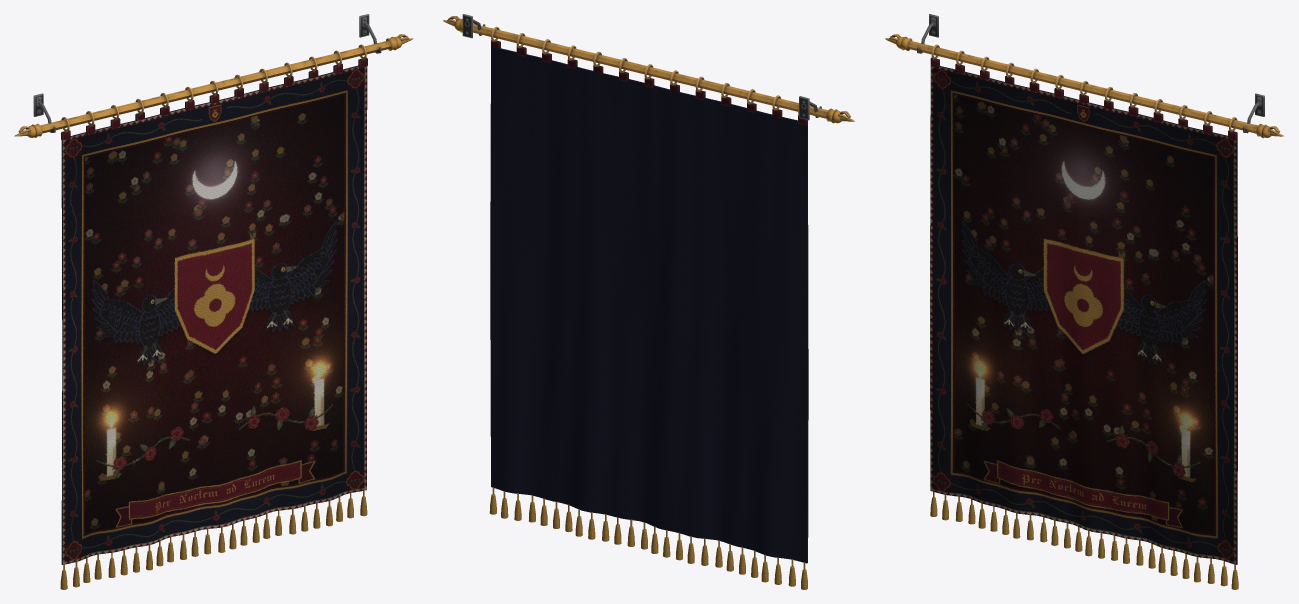
File: TapestryCrest.fbx
The picture shows the model from 3 angles, left to right: view 1: azimuth 30°, elevation 25°; view 2: azimuth 150°, elevation 25°; view 3: azimuth 330°, elevation 25°; orthographic projection. The views are drawn at different scales.
Visible parts, largest first — view 1: TapestryCrest_Weave, TapestryCrest_Main; view 2: TapestryCrest_Weave, TapestryCrest_Main; view 3: TapestryCrest_Weave, TapestryCrest_Main.
Boxes of the visible parts, <box> form: TapestryCrest_Weave: <box>60,65,367,589</box>; TapestryCrest_Main: <box>14,14,413,140</box>; TapestryCrest_Weave: <box>489,47,808,589</box>; TapestryCrest_Main: <box>443,14,854,125</box>; TapestryCrest_Weave: <box>930,65,1238,589</box>; TapestryCrest_Main: <box>885,14,1283,140</box>.
Bounding box in the file's own units: 982 × 1145 × 71.6.
